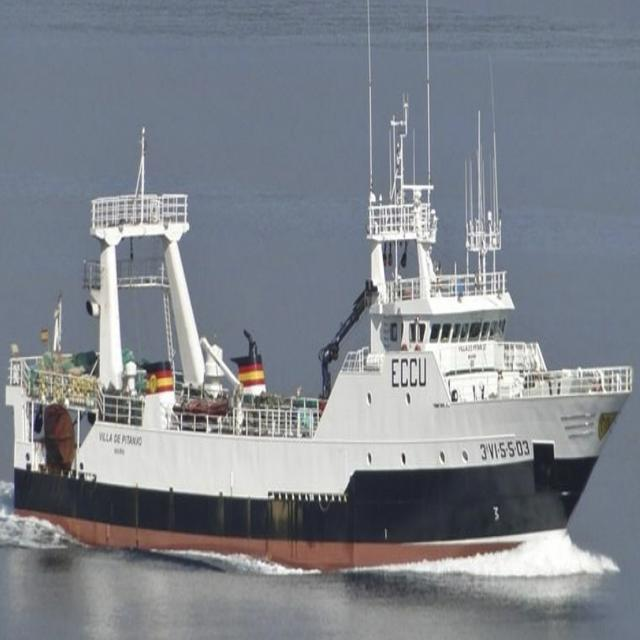boat: (7, 59, 640, 578)
